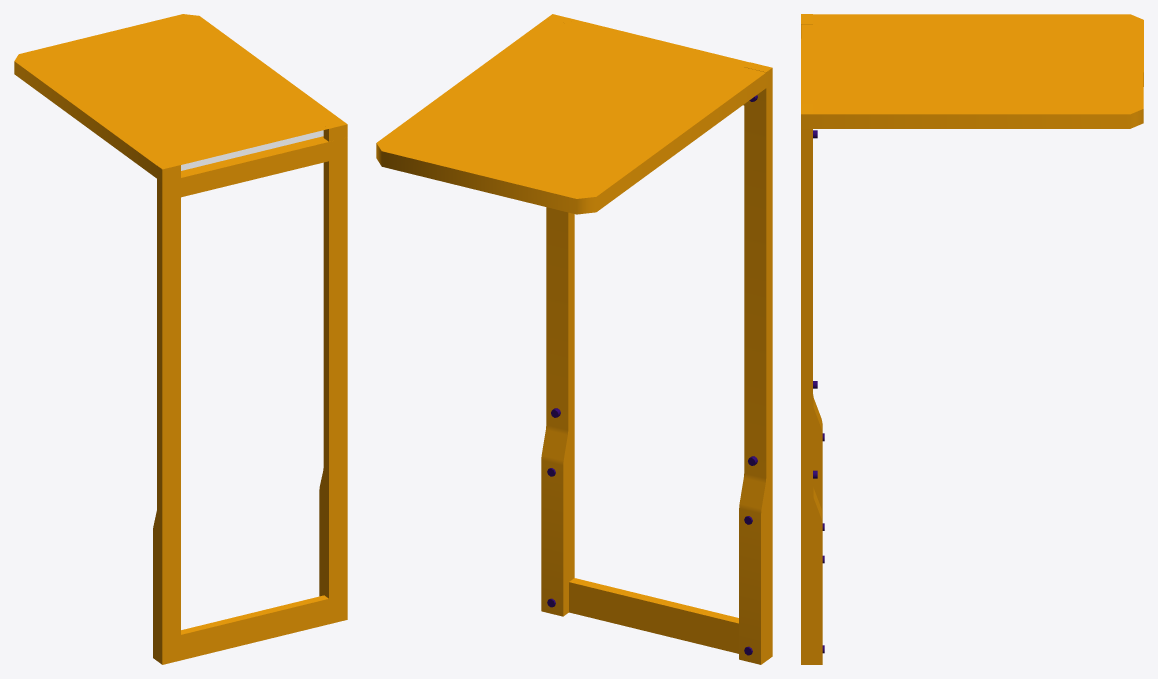
Rendered from SM_slab_2.fbx.
3 renders of one model, left to right at view 1: azimuth 30°, elevation 25°; view 2: azimuth 150°, elevation 25°; view 3: azimuth 270°, elevation 25°, orthographic. The views are drawn at different scales.
Visible parts, largest first — view 1: SM_slab_2; view 2: SM_slab_2; view 3: SM_slab_2.
Part boxes in pixels (x1,y1,x2,y2): SM_slab_2: (14, 14, 347, 664); SM_slab_2: (376, 14, 772, 664); SM_slab_2: (801, 14, 1143, 664).
Size of the model in its own units: 10.01 by 25.59 by 14.44.
